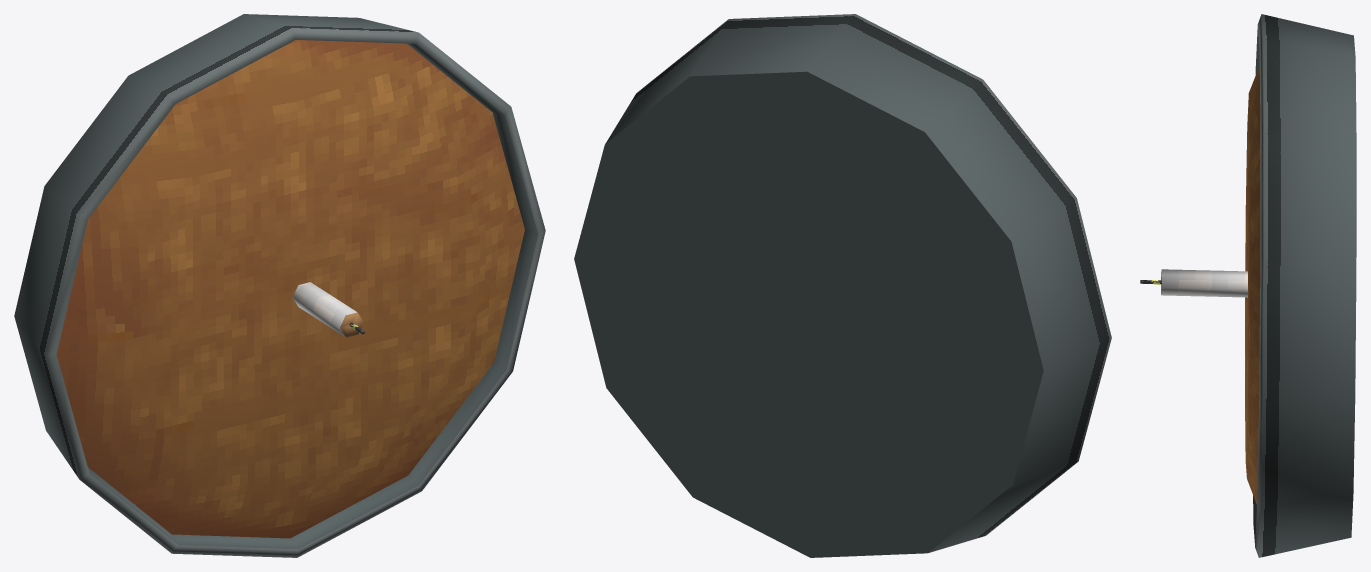
The model's file is H_CakePan_Candle.fbx.
The picture shows the model from 3 angles, left to right: view 1: azimuth 30°, elevation 25°; view 2: azimuth 150°, elevation 25°; view 3: azimuth 270°, elevation 25°; orthographic projection. The views are drawn at different scales.
Parts seen in each view (by area): view 1: Cake001; view 2: Cake001; view 3: Cake001.
Boxes of the visible parts, x1,y1,x2,y2 form: Cake001: [14, 14, 545, 557]; Cake001: [574, 14, 1111, 557]; Cake001: [1140, 14, 1356, 557].
Size of the model in its own units: 60.14 by 60.14 by 23.81.
